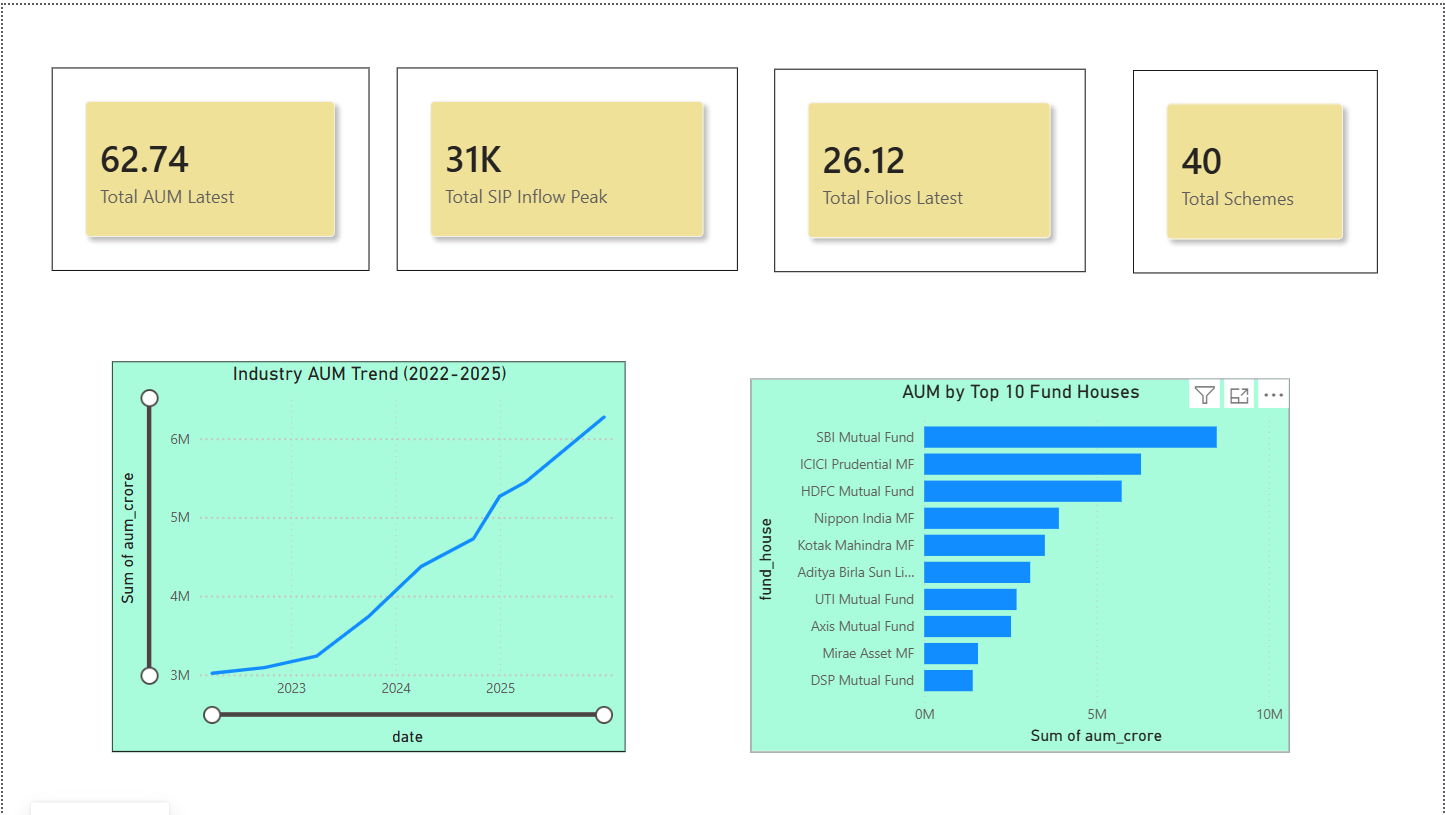

Layout of this report page (visuals, bound fields, positions):
{"tool":"powerbi","page":{"name":"Industry Overview","canvas":[1280,720],"ordinal":0},"visuals":[{"type":"cardVisual","title":"Total SIP Inflow (Crore)","fields":{"Data":["clean_monthly_sip_inflows.Total SIP Inflow Peak"]},"box":[350,55.6,303.3,181.1],"z":0},{"type":"cardVisual","fields":{"Data":["clean_fund_master.Total Schemes"]},"box":[1004.4,57.8,217.8,181.1],"z":1000},{"type":"lineChart","title":"Industry AUM Trend (2022-2025)","fields":{"Y":["Sum(clean_aum_by_fund_house.aum_crore)"],"Category":["clean_aum_by_fund_house.date"]},"box":[96.8,316.9,456.4,347],"z":2000},{"type":"barChart","title":"AUM by Top 10 Fund Houses","fields":{"Category":["clean_aum_by_fund_house.fund_house"],"Y":["Sum(clean_aum_by_fund_house.aum_crore)"]},"box":[663.9,331.9,479.1,331.9],"z":3000},{"type":"cardVisual","fields":{"Data":["clean_industry_folio_count.Total Folios Latest"]},"box":[685.6,56.7,276.7,181.1],"z":4000},{"type":"cardVisual","fields":{"Data":["clean_aum_by_fund_house.Total AUM Latest"]},"box":[43.3,55.6,282.2,181.1],"z":5000}]}

Visuals, with their boxes in screenshot pixels (x1, y1, x2, y2), scaled from the page's 1280x720 canvas onto the 1445x815 screenshot:
"Total SIP Inflow (Crore)" cardVisual: crop(395, 63, 738, 268)
cardVisual - clean_fund_master.Total Schemes: crop(1134, 65, 1380, 270)
"Industry AUM Trend (2022-2025)" lineChart: crop(109, 359, 625, 751)
"AUM by Top 10 Fund Houses" barChart: crop(749, 376, 1290, 751)
cardVisual - clean_industry_folio_count.Total Folios Latest: crop(774, 64, 1086, 269)
cardVisual - clean_aum_by_fund_house.Total AUM Latest: crop(49, 63, 367, 268)
